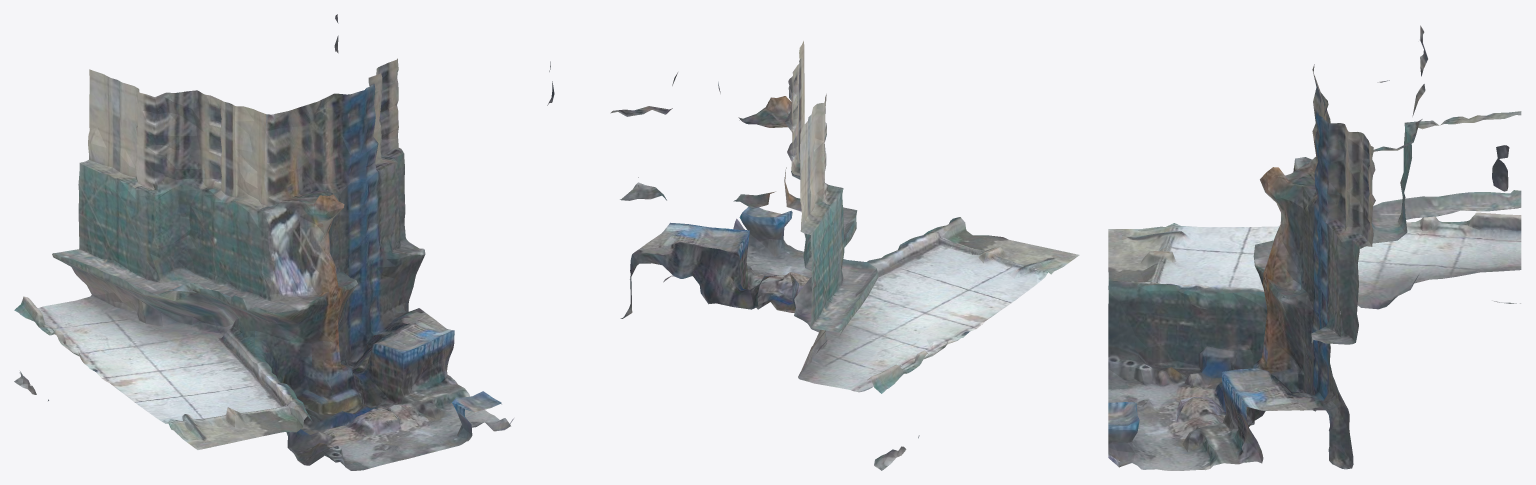
The model's file is Tile__003__002_L20_000300t2.glb.
3 views of the same model, side by side, from view 1: azimuth 30°, elevation 25°; view 2: azimuth 150°, elevation 25°; view 3: azimuth 270°, elevation 25° (orthographic). The views are drawn at different scales.
Visible parts, largest first — view 1: root; view 2: root; view 3: root.
Boxes of the visible parts, x1,y1,x2,y2 form: root: [14, 14, 513, 470]; root: [547, 41, 1079, 470]; root: [1108, 25, 1521, 470].
Bounding box in the file's own units: 25.69 × 22.68 × 25.69.
3 materials, 3 textured.
